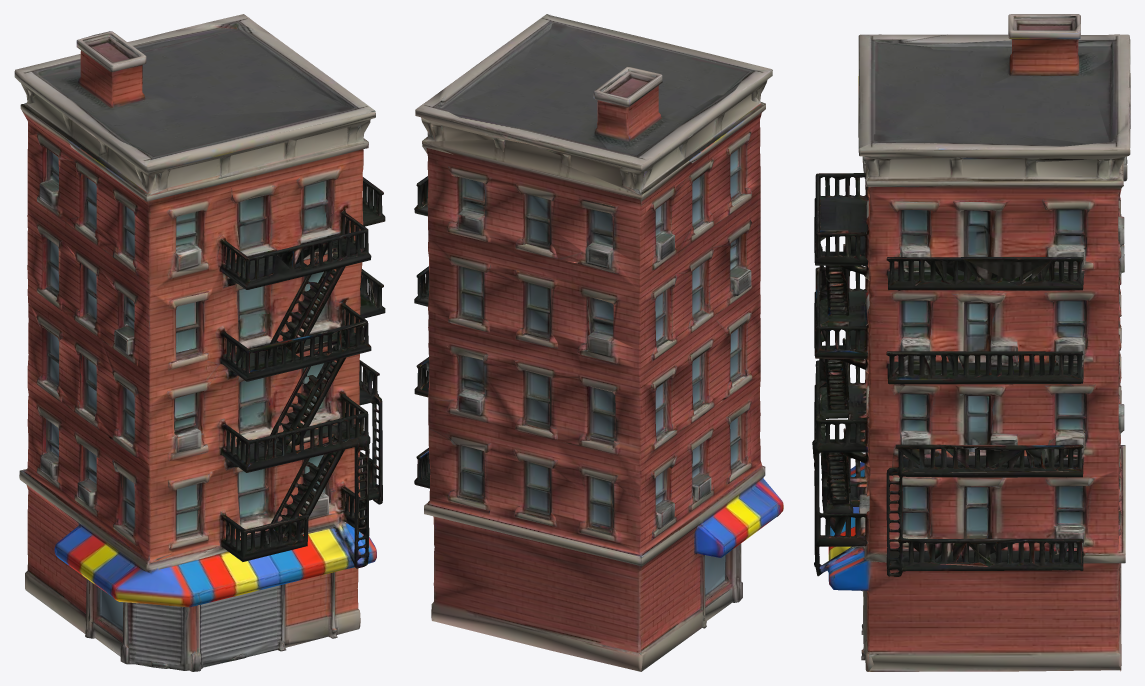
The model's file is bodega.glb.
3 renders of one model, left to right at view 1: azimuth 30°, elevation 25°; view 2: azimuth 150°, elevation 25°; view 3: azimuth 270°, elevation 25°, orthographic. The views are drawn at different scales.
Parts seen in each view (by area): view 1: Mesh_0; view 2: Mesh_0; view 3: Mesh_0.
Boxes of the visible parts, <box> form: Mesh_0: <box>14,14,385,671</box>; Mesh_0: <box>414,14,783,671</box>; Mesh_0: <box>812,14,1130,671</box>.
Size of the model in its own units: 0.9841 by 1.91 by 0.9668.
Materials: 1 (1 with a texture image).
